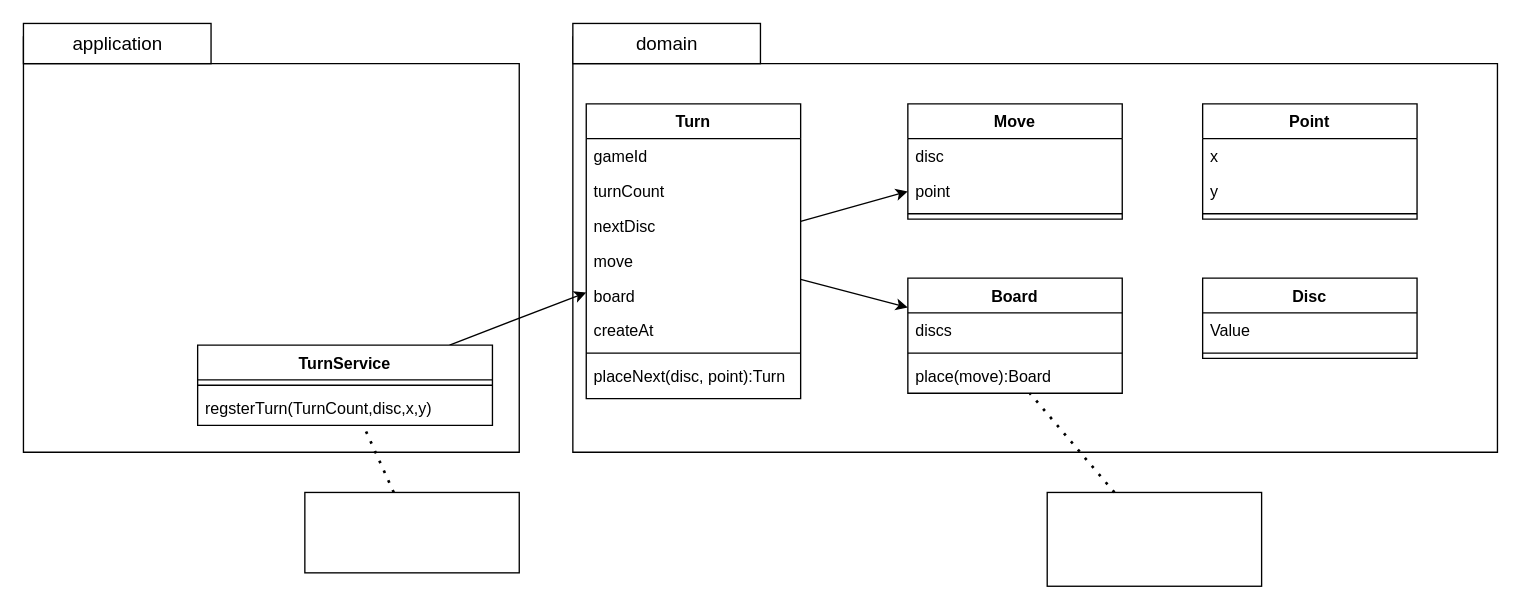
The diagram is 1521 pixels wide and 610 high, and some of its shapes have lost their labels. Each missing label, with the centre of its shape:
placeメソッド ・盤面におけるかチェック ・石を置く ・ひっくり返す: (x=1154, y=538)
・1つ前のターンを取得 ・石を置く ・ターンを保存する: (x=411, y=532)
